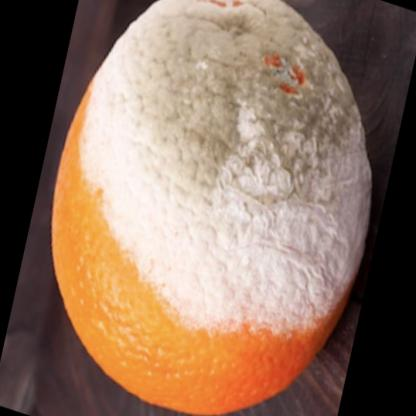rotten: (53, 2, 371, 416)
